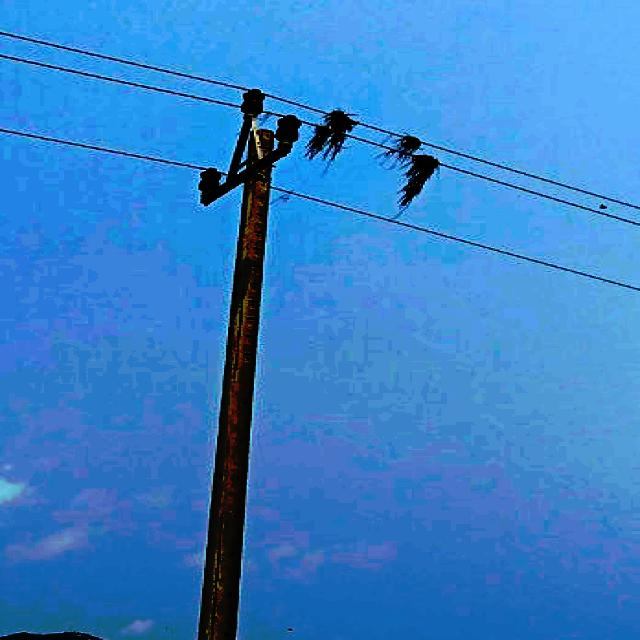obstruction: (384, 135, 443, 208), (307, 106, 362, 160)
poles: (184, 87, 305, 635)
wires: (271, 178, 636, 297), (0, 31, 250, 176), (431, 142, 638, 231), (268, 92, 334, 130), (344, 119, 407, 149)
